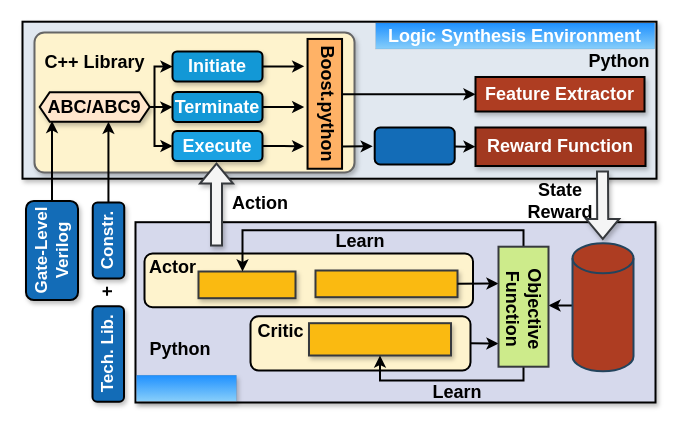
The diagram is 680 pixels wide and 428 high, and some of its shapes have lost their labels. Here are the shapes that lost their labels. From the top down, the centre of each, then its label:
the point at 414,145: Metric
the point at 247,286: Policy Net
the point at 387,285: Old Policy Net
the point at 602,307: Memory Buffer
the point at 381,340: Value Net
the point at 187,389: RL Agent
